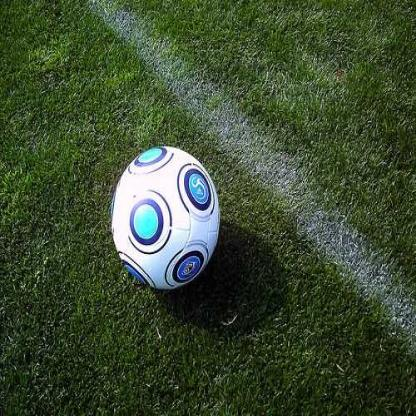ball: (112, 147, 220, 290)
